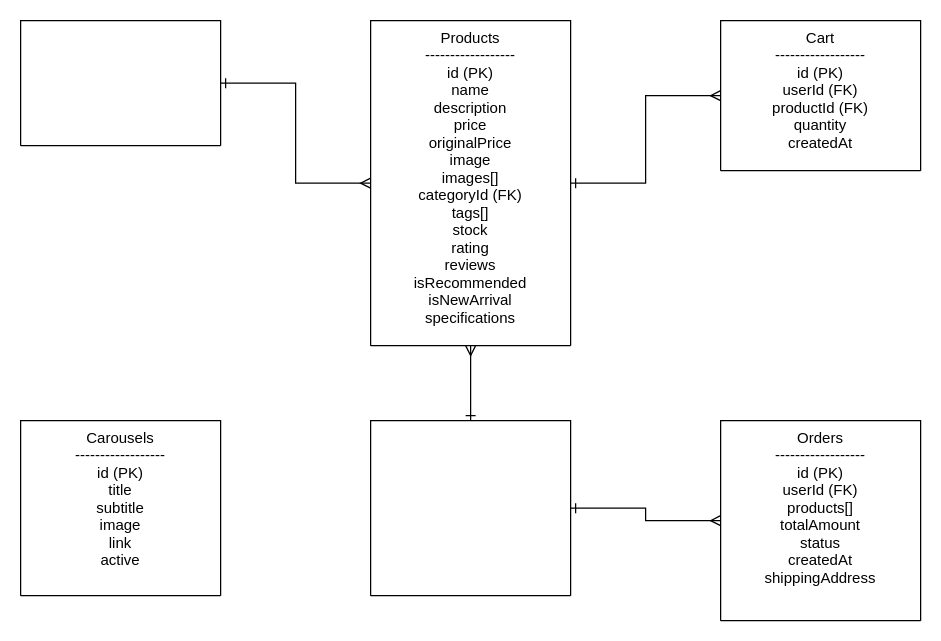
Image size: 941x641. Some labels were removed from this diagram. The box of each missing label's shape, as (x1, y1, x2, y2) in pixels:
Categories ------------------ id (PK) name code icon: (19, 19, 221, 146)
Users ------------------ id (PK) username email avatar role createdAt: (369, 419, 571, 596)
